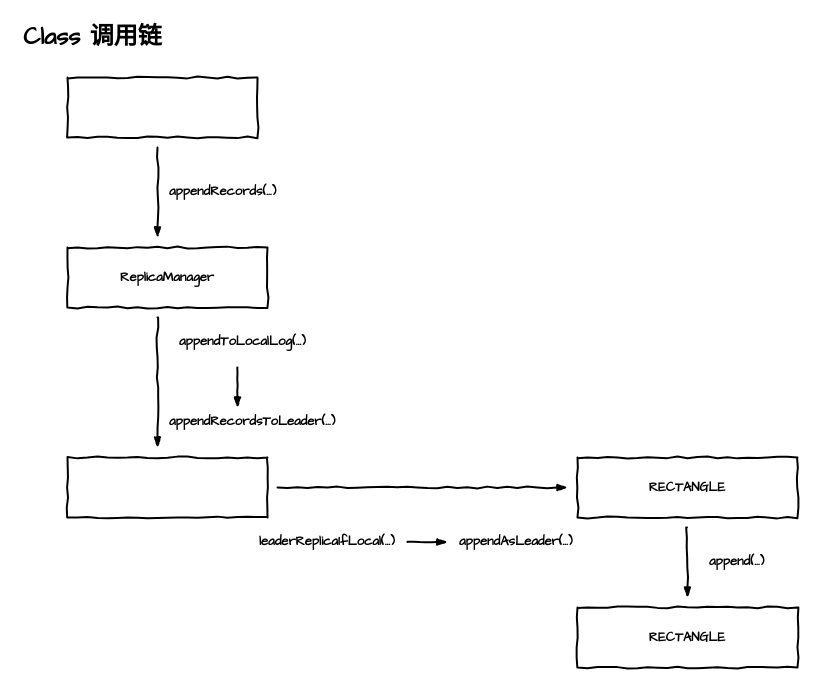
The diagram is 815 pixels wide and 685 high, and some of its shapes have lost their labels. Each missing label, with the box of its shape:
handleProduceRequest: (66, 76, 258, 138)
Partition: (66, 456, 268, 518)
